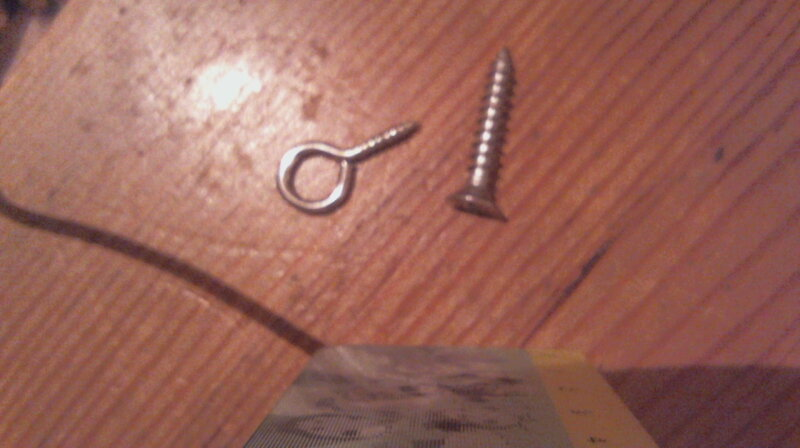O001: (275, 119, 428, 217)
S001: (448, 44, 519, 220)
